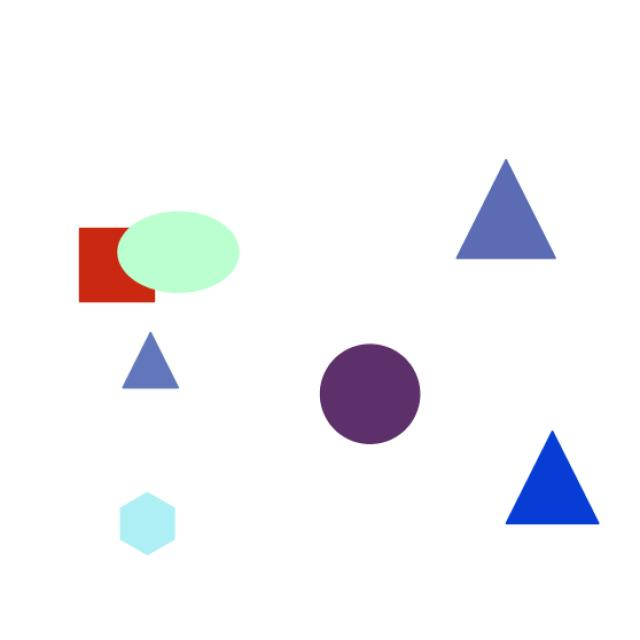Circle: (307, 332, 426, 457)
Hexagon: (113, 478, 202, 561)
Oval: (112, 203, 265, 305)
Triangle: (482, 412, 635, 534), (443, 147, 582, 269), (110, 323, 185, 398)
square: (66, 219, 171, 318)
